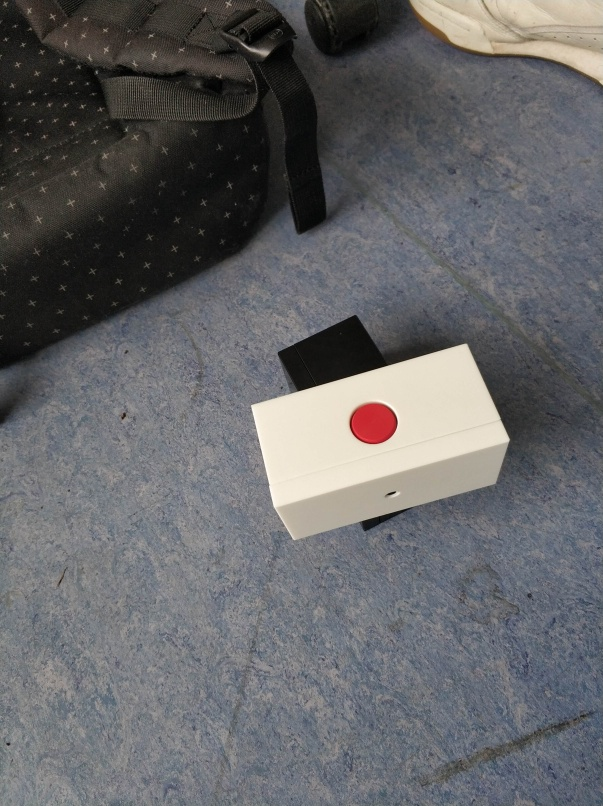white+white+red: (241, 342, 515, 543)
